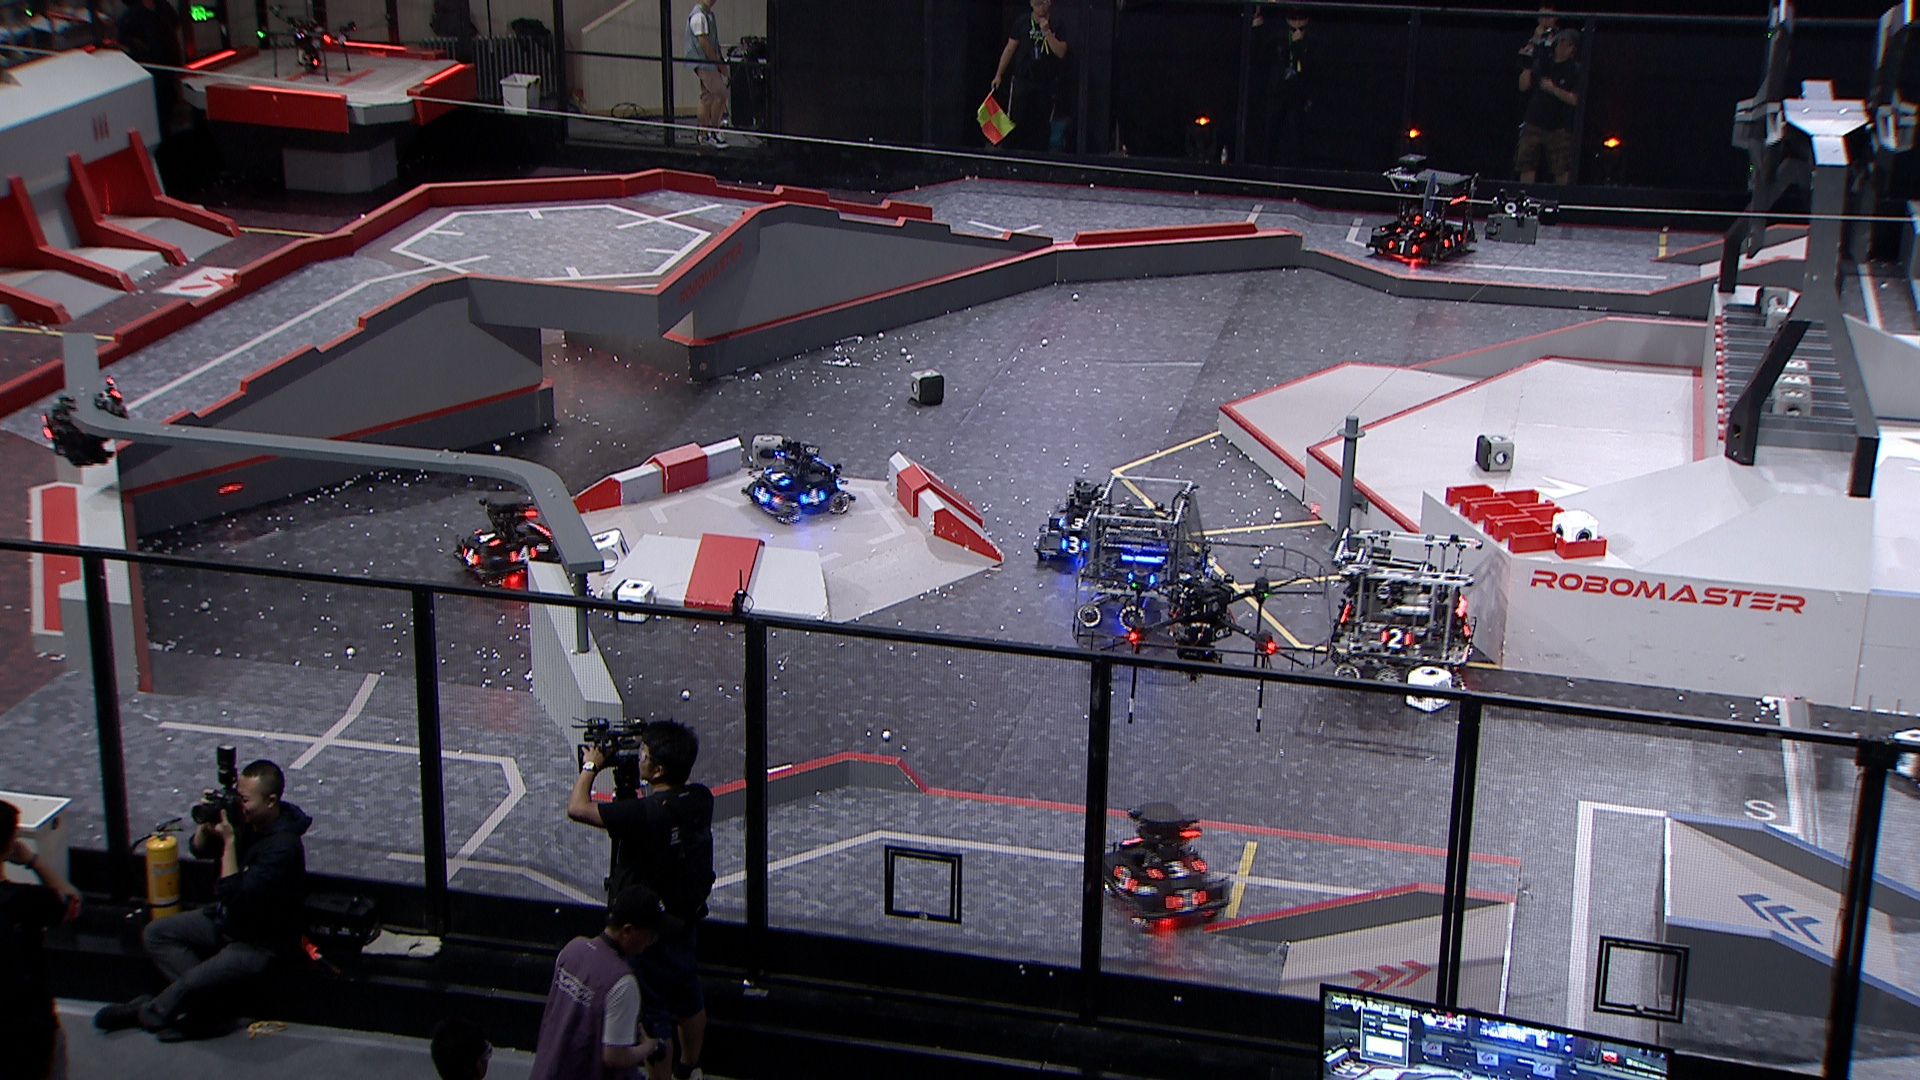armor: (1147, 856, 1207, 880), (1164, 885, 1207, 915), (1377, 626, 1414, 650), (506, 542, 538, 566), (1114, 864, 1139, 893), (1059, 535, 1091, 556), (761, 465, 793, 487), (472, 527, 501, 549), (798, 487, 825, 508), (36, 411, 54, 443), (1386, 237, 1419, 255), (1393, 225, 1428, 240), (1055, 516, 1087, 531), (752, 484, 773, 506), (462, 546, 483, 567), (1443, 232, 1462, 247)
car: (1325, 524, 1486, 698), (1068, 472, 1220, 632), (1092, 796, 1234, 928), (1364, 153, 1480, 268), (448, 493, 564, 589), (741, 433, 855, 527), (1030, 476, 1126, 566)
watcher: (34, 375, 133, 465)
